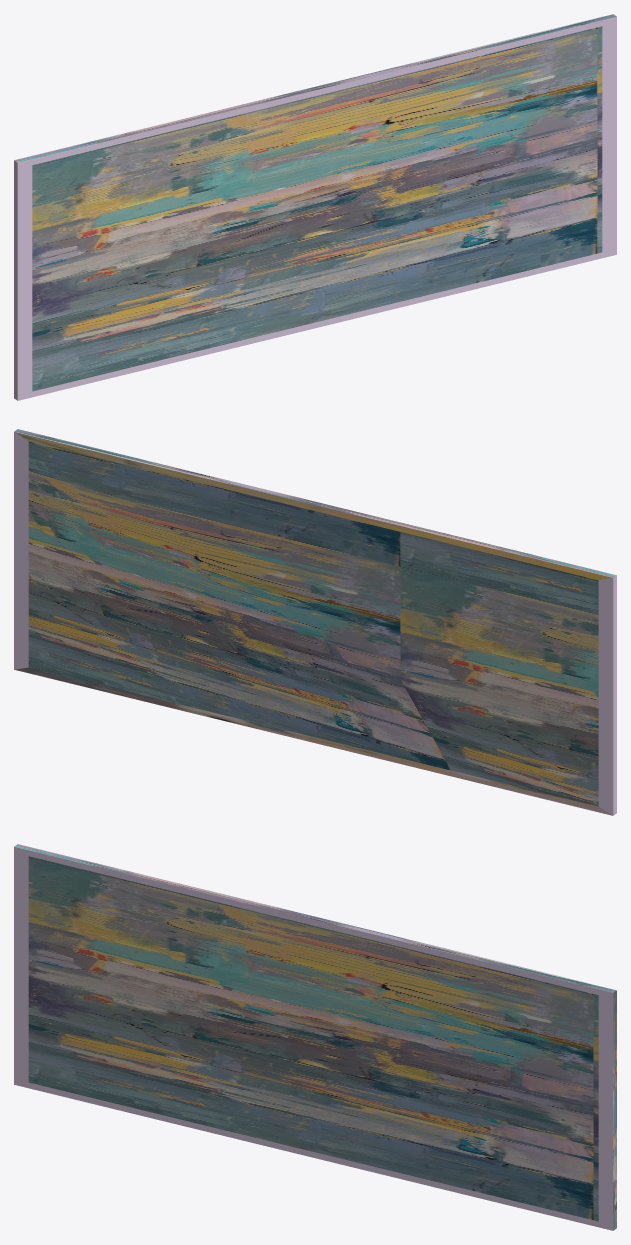
File: CoolPainting.fbx
The picture shows the model from 3 angles, top to bottom: view 1: azimuth 30°, elevation 25°; view 2: azimuth 150°, elevation 25°; view 3: azimuth 330°, elevation 25°; orthographic projection.
Visible parts, largest first — view 1: Cube; view 2: Cube; view 3: Cube.
Boxes of the visible parts, x1,y1,x2,y2 form: Cube: (14, 14, 616, 400); Cube: (14, 429, 616, 815); Cube: (14, 844, 616, 1230).
Bounding box in the file's own units: 18509 × 7024 × 200.
